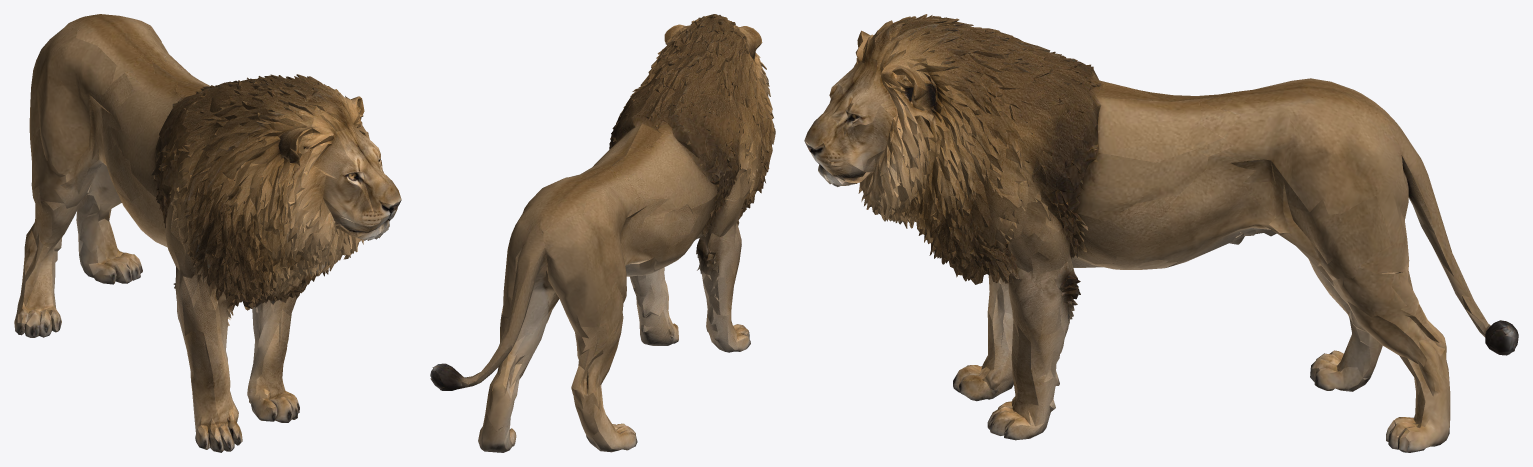
The model's file is lion.glb.
The picture shows the model from 3 angles, left to right: view 1: azimuth 30°, elevation 25°; view 2: azimuth 150°, elevation 25°; view 3: azimuth 270°, elevation 25°; orthographic projection. The views are drawn at different scales.
Size of the model in its own units: 0.5803 by 1.18 by 1.9.
1 material, 1 textured.
